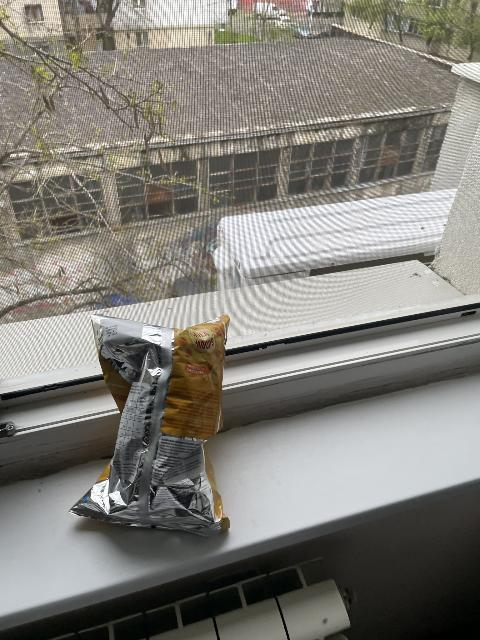Chio Hula Hoops Cheese 70g: (72, 315, 236, 535)
